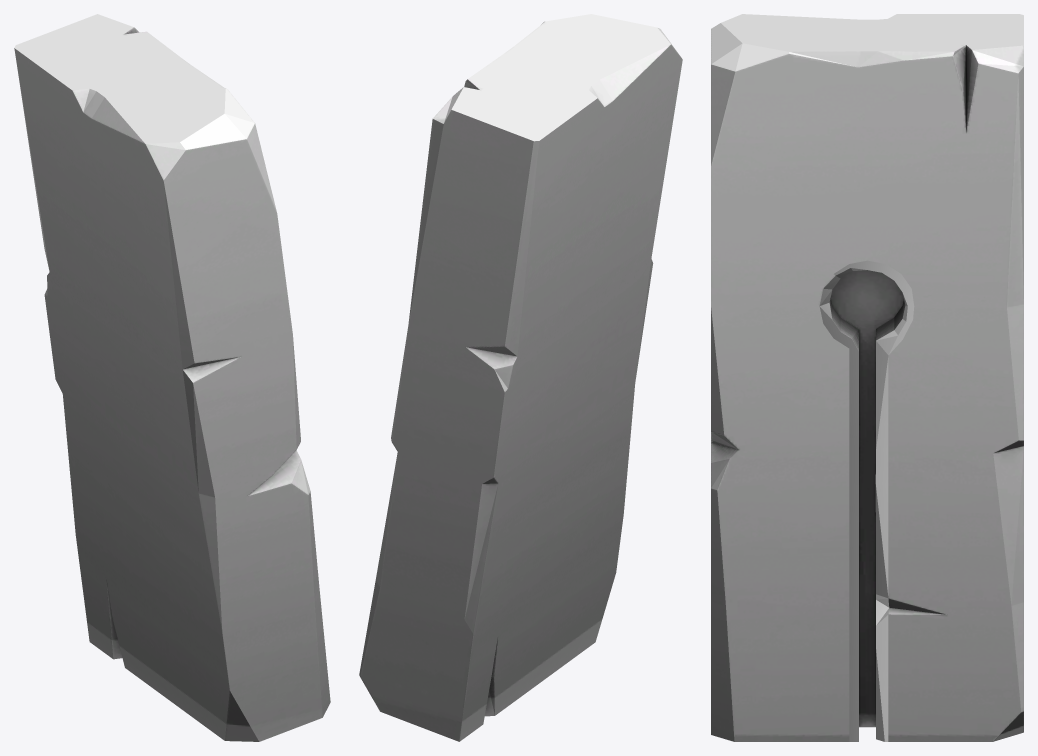
The model's file is Treasure.fbx.
3 renders of one model, left to right at view 1: azimuth 30°, elevation 25°; view 2: azimuth 150°, elevation 25°; view 3: azimuth 270°, elevation 25°, orthographic. The views are drawn at different scales.
Visible parts, largest first — view 1: SK_Treasure_Normal.mo; view 2: SK_Treasure_Normal.mo; view 3: SK_Treasure_Normal.mo.
Part boxes in pixels (x1=…): SK_Treasure_Normal.mo: x1=14, y1=14, x2=330, y2=741; SK_Treasure_Normal.mo: x1=359, y1=14, x2=682, y2=741; SK_Treasure_Normal.mo: x1=711, y1=14, x2=1023, y2=741.
Bounding box in the file's own units: 70.8 × 234 × 100.
2 materials, 2 textured.
